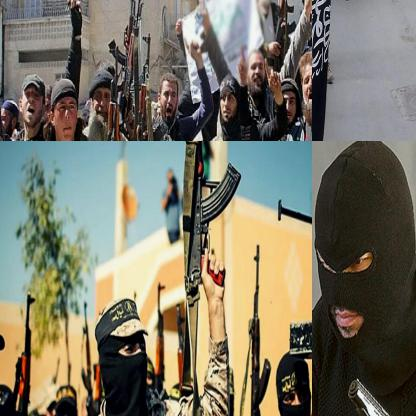pistol: (340, 376, 413, 415)
rifle: (174, 141, 245, 295), (275, 185, 311, 415), (238, 240, 272, 415), (5, 287, 38, 415), (101, 43, 143, 140), (108, 0, 142, 97), (152, 274, 168, 411), (77, 301, 94, 415), (173, 289, 189, 405), (269, 0, 297, 57), (140, 36, 155, 140), (0, 25, 8, 140)
